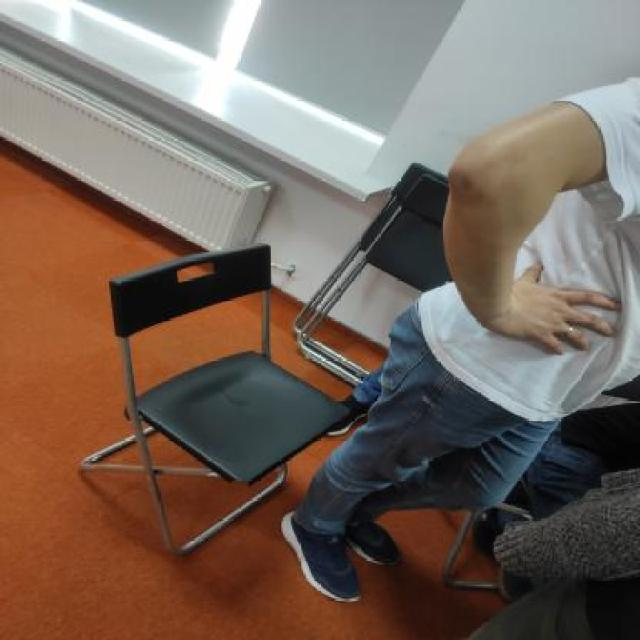chair: (61, 231, 352, 566)
